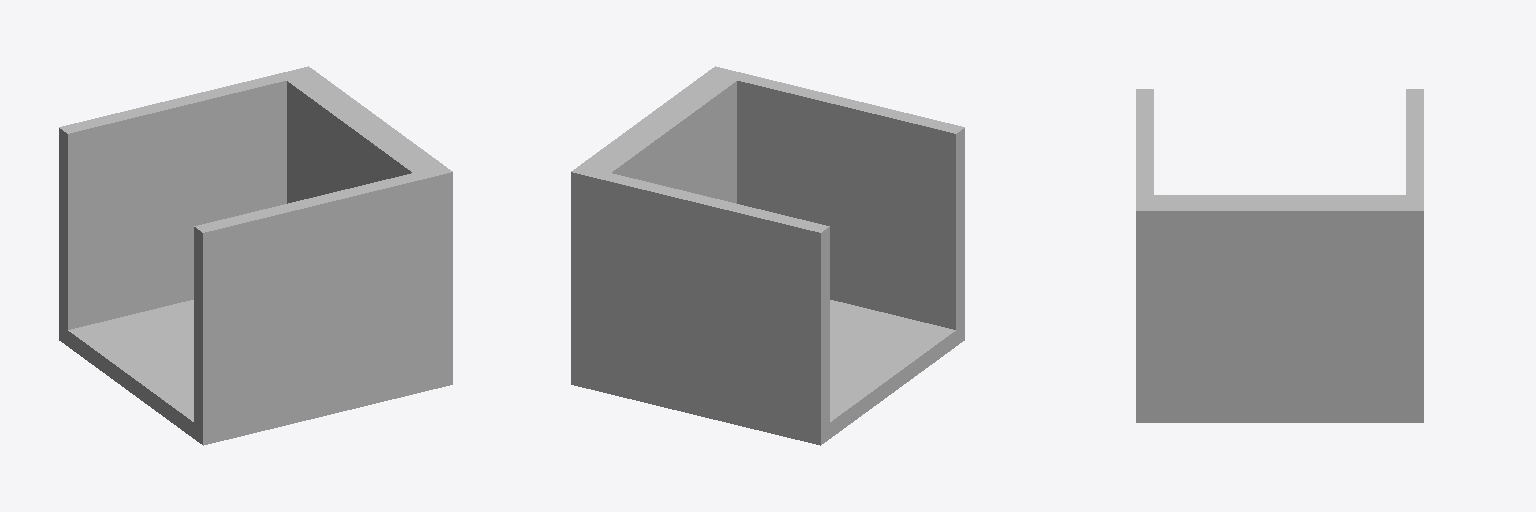
The model's file is place.obj.
3 views of the same model, side by side, from view 1: azimuth 30°, elevation 25°; view 2: azimuth 150°, elevation 25°; view 3: azimuth 270°, elevation 25° (orthographic).
Visible parts, largest first — view 1: Part1, Part3, Part2, Part4; view 2: Part3, Part1, Part2, Part4; view 3: Part2, Part1, Part3, Part4.
Boxes of the visible parts, x1=… form: Part1: x1=194, y1=166, x2=452, y2=444; Part3: x1=59, y1=67, x2=316, y2=345; Part2: x1=278, y1=66, x2=452, y2=386; Part4: x1=59, y1=300, x2=452, y2=445; Part3: x1=571, y1=166, x2=829, y2=445; Part1: x1=707, y1=66, x2=964, y2=344; Part2: x1=571, y1=67, x2=744, y2=374; Part4: x1=571, y1=300, x2=964, y2=444; Part2: x1=1136, y1=195, x2=1423, y2=422; Part1: x1=1136, y1=89, x2=1153, y2=422; Part3: x1=1406, y1=89, x2=1423, y2=422; Part4: x1=1136, y1=407, x2=1420, y2=422.
Size of the model in its own units: 16 by 13 by 16.